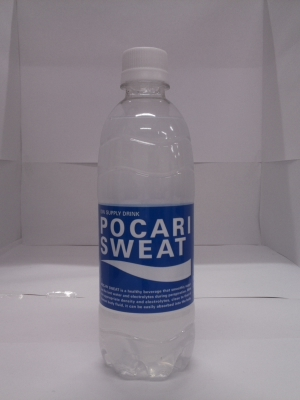pocari: (82, 38, 214, 391)
